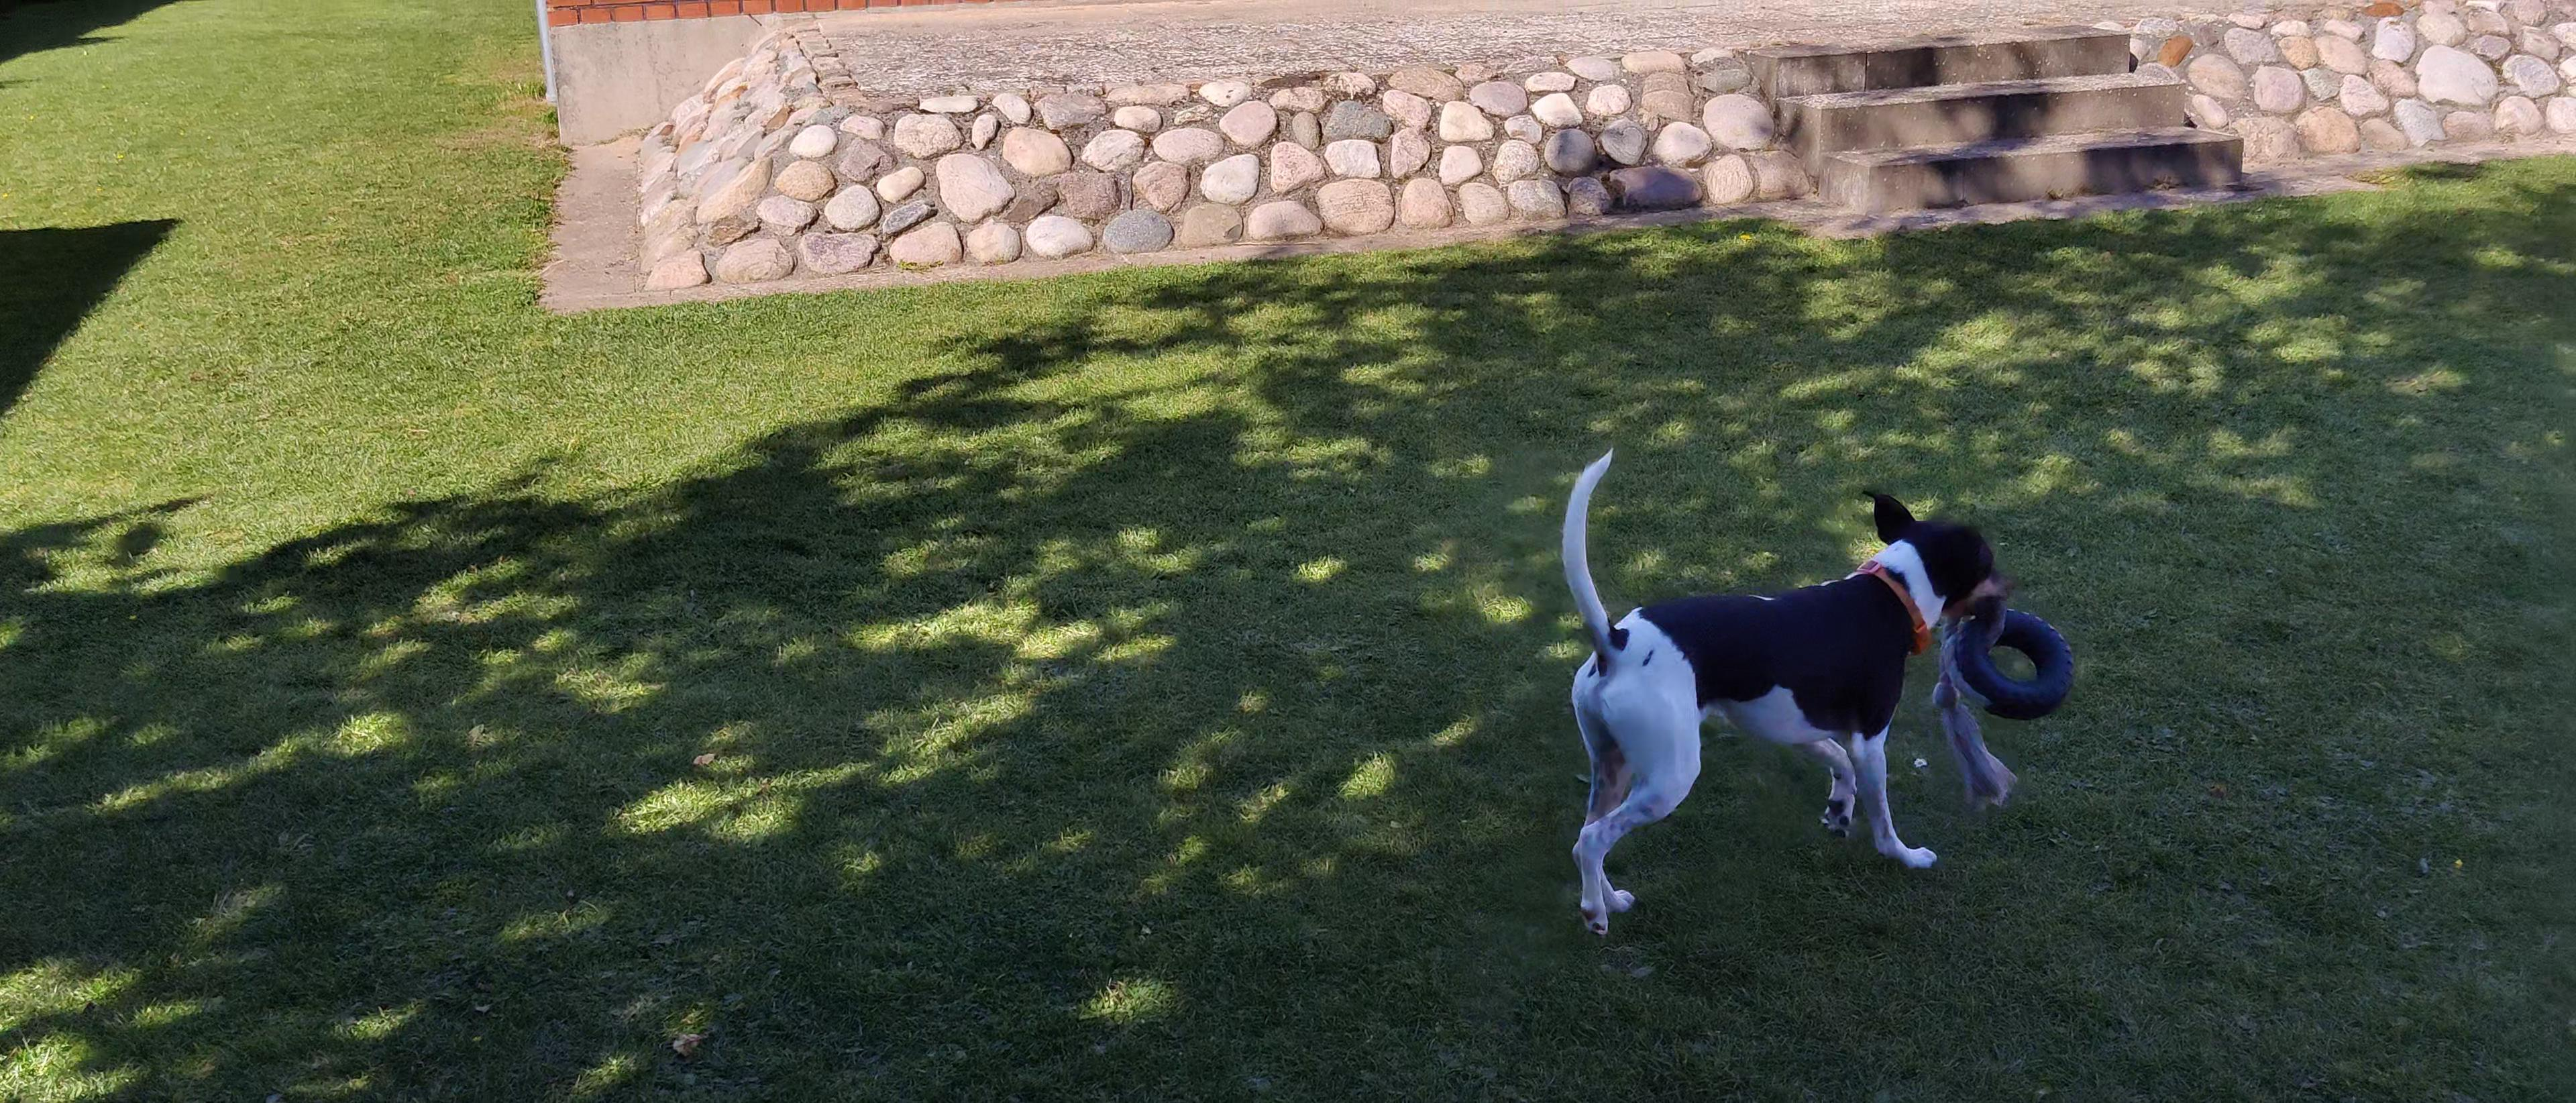Dog: (1533, 436, 2014, 947)
